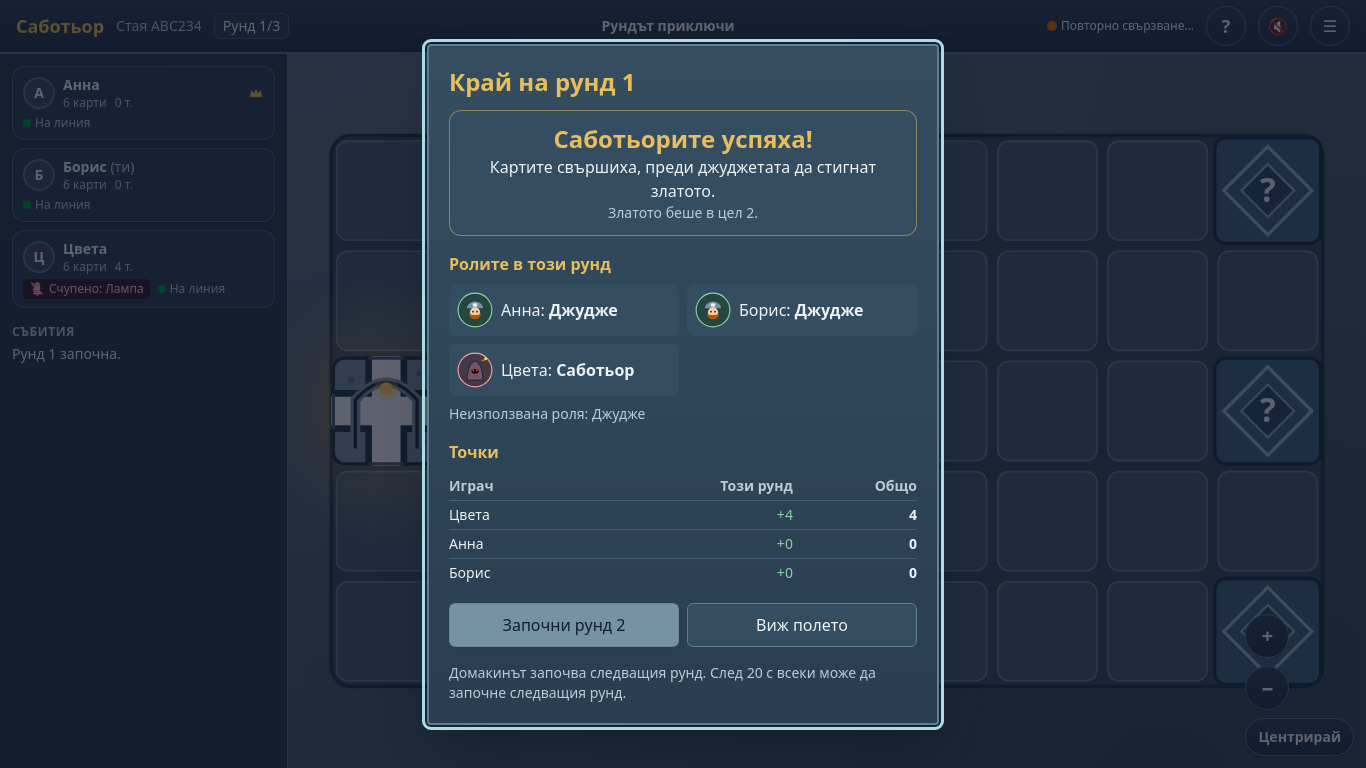
round results and final standings › shows the winner, revealed roles and points; non-hosts wait for the results deadline
Expected: the dialog "Край на рунд 1" shows "Саботьорите успяха!", [553,122,813,154]
Expected: the dialog "Край на рунд 1" shows "Цвета: Саботьор", [427,44,939,724]
Click the button "Виж полето": (802, 624) [687,602,917,646]
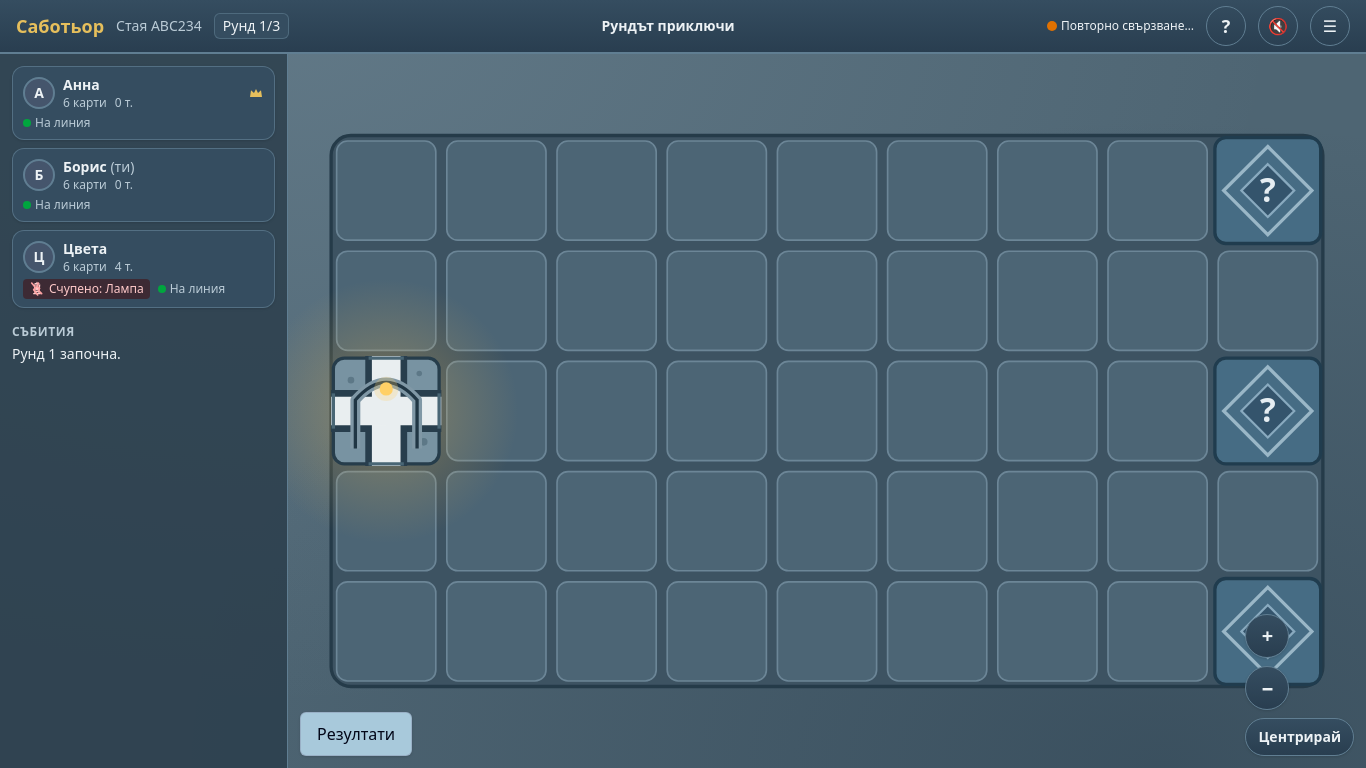
Result: the button "Резултати" is shown at [300,712,412,756]
